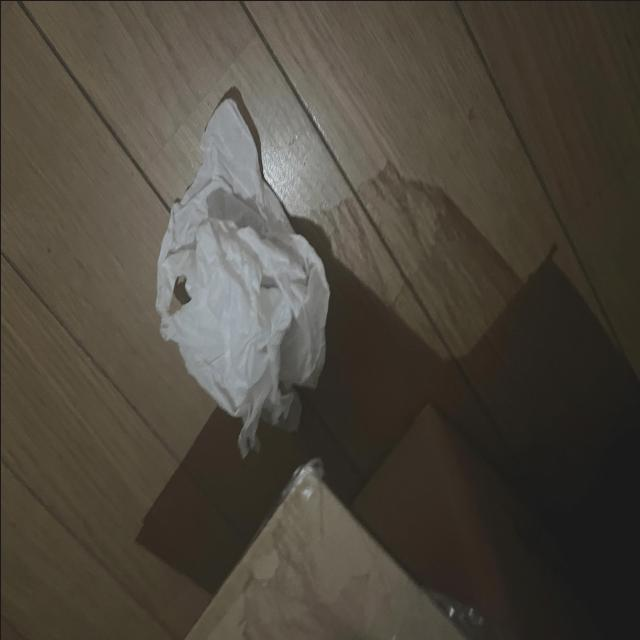Paper: (154, 94, 335, 440)
